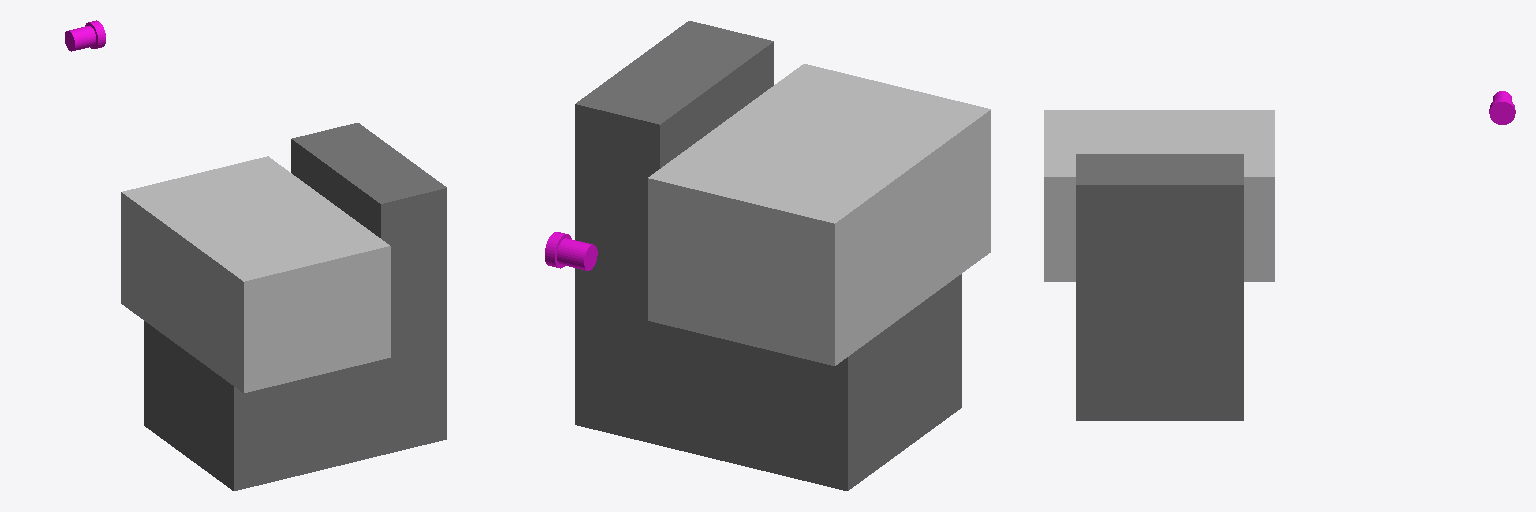
robot.urdf — primitive_chargepal_with_gripper:
<?xml version="1.0" ?>
<!-- =================================================================================== -->
<!-- |    This document was autogenerated by xacro from [local-path]/ros_ws/src/chargepal_description/urdf/bringups/primitive_chargepal_with_fix_plug.urdf.xacro | -->
<!-- |    EDITING THIS FILE BY HAND IS NOT RECOMMENDED                                 | -->
<!-- =================================================================================== -->
<robot name="primitive_chargepal_with_gripper">
  <!-- start kinematic chain -->
  <link name="world"/>
  <joint name="world_joint" type="fixed">
    <parent link="world"/>
    <child link="mobile_base_link"/>
    <origin rpy="0.0 0.0 0.0" xyz="-0.275 0.0 0.2"/>
  </joint>
  <link name="mobile_base_link">
    <inertial>
      <mass value="100.0"/>
      <origin rpy="0 0 0" xyz="0 0 0.4"/>
      <inertia ixx="4.136665012" ixy="0.0" ixz="0.0" iyy="6.666664000000002" iyz="0.0" izz="8.136663412"/>
    </inertial>
    <visual>
      <material name="grey">
        <color rgba="0.5 0.5 0.5 1"/>
      </material>
      <orign rpy="0.0 0.0 0.0" xyz="0.0 0.0 0.0"/>
      <geometry>
        <box size="0.8 0.58 0.4"/>
      </geometry>
    </visual>
    <collision>
      <orign rpy="0.0 0.0 0.0" xyz="0.0 0.0 0.0"/>
      <geometry>
        <box size="0.8 0.58 0.4"/>
      </geometry>
    </collision>
  </link>
  <joint name="tower_joint" type="fixed">
    <parent link="mobile_base_link"/>
    <child link="tower_link"/>
    <origin rpy="0.0 0.0 0.0" xyz="0.275 0.0 0.45"/>
  </joint>
  <link name="tower_link">
    <inertial>
      <mass value="50.0"/>
      <origin rpy="0 0 0" xyz="0 0 0.5"/>
      <inertia ixx="2.443332356" ixy="0.0" ixz="0.0" iyy="1.3020828125000001" iyz="0.0" izz="1.6620826684999999"/>
    </inertial>
    <visual>
      <material name="grey">
        <color rgba="0.5 0.5 0.5 1"/>
      </material>
      <orign rpy="0.0 0.0 0.0" xyz="0.0 0.0 0.0"/>
      <geometry>
        <box size="0.25 0.58 0.5"/>
      </geometry>
    </visual>
    <collision>
      <orign rpy="0.0 0.0 0.0" xyz="0.0 0.0 0.0"/>
      <geometry>
        <box size="0.25 0.58 0.5"/>
      </geometry>
    </collision>
  </link>
  <joint name="battery_joint" type="fixed">
    <parent link="mobile_base_link"/>
    <child link="battery_link"/>
    <origin rpy="0.0 0.0 0.0" xyz="-0.15 0.0 0.4"/>
  </joint>
  <link name="battery_link">
    <inertial>
      <mass value="300.0"/>
      <origin rpy="0 0 0" xyz="0 0 0.4"/>
      <inertia ixx="19.80061707975" ixy="0.0" ixz="0.0" iyy="11.562495375000003" iyz="0.0" izz="23.36311565475"/>
    </inertial>
    <visual>
      <material name="aluminium">
        <color rgba="0.8 0.8 0.8 1"/>
      </material>
      <orign rpy="0.0 0.0 0.0" xyz="0.0 0.0 0.0"/>
      <geometry>
        <box size="0.55 0.795 0.4"/>
      </geometry>
    </visual>
    <collision>
      <orign rpy="0.0 0.0 0.0" xyz="0.0 0.0 0.0"/>
      <geometry>
        <box size="0.55 0.795 0.4"/>
      </geometry>
    </collision>
  </link>
  <!-- colorize platform -->
  <gazebo reference="mobile_base_link">
    <material>Gazebo/DarkGrey</material>
  </gazebo>
  <gazebo reference="tower_link">
    <material>Gazebo/DarkGrey</material>
  </gazebo>
  <gazebo reference="battery_link">
    <material>Gazebo/Grey</material>
  </gazebo>
  <!-- platform arm joint -->
  <joint name="platform_ur10e_joint" type="fixed">
    <parent link="tower_link"/>
    <child link="base_link"/>
    <origin rpy="0.0 0.0 1.570795" xyz="0.0 0.0 0.25"/>
  </joint>
  <!--
    Base UR robot series xacro macro.

    NOTE: this is NOT a URDF. It cannot directly be loaded by consumers
    expecting a flattened '.urdf' file. See the top-level '.xacro' for that
    (but note: that .xacro must still be processed by the xacro command).

    For use in '.launch' files: use one of the 'load_urX.launch' convenience
    launch files.

    This file models the base kinematic chain of a UR robot, which then gets
    parameterised by various configuration files to convert it into a UR3(e),
    UR5(e), UR10(e) or UR16e.

    NOTE: the default kinematic parameters (ie: link lengths, frame locations,
    offets, etc) do not correspond to any particular robot. They are defaults
    only. There WILL be non-zero offsets between the Forward Kinematics results
    in TF (ie: robot_state_publisher) and the values reported by the Teach
    Pendant.

    For accurate (and robot-specific) transforms, the 'kinematics_parameters_file'
    parameter MUST point to a .yaml file containing the appropriate values for
    the targetted robot.

    If using the UniversalRobots/Universal_Robots_ROS_Driver, follow the steps
    described in the readme of that repository to extract the kinematic
    calibration from the controller and generate the required .yaml file.

    Main author of the migration to yaml configs: [author].

    Contributors to previous versions (in no particular order):

     - [author]
     - [author]
     - [author]
     - [author]
     - [author]
     - [author]
     - [author]
     - [author]
     - [author]
     - [author]
     - [author]
     - [author]
     - [author]
     - [author]
     - [author]
     - [author]
     - [author]
  -->
  <!--
    NOTE: the macro defined in this file is NOT part of the public API of this
          package. Users CANNOT rely on this file being available, or stored in
          this location. Nor can they rely on the existence of the macro.
  -->
  <transmission name="shoulder_pan_trans">
    <type>transmission_interface/SimpleTransmission</type>
    <joint name="shoulder_pan_joint">
      <hardwareInterface>hardware_interface/VelocityJointInterface</hardwareInterface>
    </joint>
    <actuator name="shoulder_pan_motor">
      <mechanicalReduction>1</mechanicalReduction>
    </actuator>
  </transmission>
  <transmission name="shoulder_lift_trans">
    <type>transmission_interface/SimpleTransmission</type>
    <joint name="shoulder_lift_joint">
      <hardwareInterface>hardware_interface/VelocityJointInterface</hardwareInterface>
    </joint>
    <actuator name="shoulder_lift_motor">
      <mechanicalReduction>1</mechanicalReduction>
    </actuator>
  </transmission>
  <transmission name="elbow_trans">
    <type>transmission_interface/SimpleTransmission</type>
    <joint name="elbow_joint">
      <hardwareInterface>hardware_interface/VelocityJointInterface</hardwareInterface>
    </joint>
    <actuator name="elbow_motor">
      <mechanicalReduction>1</mechanicalReduction>
    </actuator>
  </transmission>
  <transmission name="wrist_1_trans">
    <type>transmission_interface/SimpleTransmission</type>
    <joint name="wrist_1_joint">
      <hardwareInterface>hardware_interface/VelocityJointInterface</hardwareInterface>
    </joint>
    <actuator name="wrist_1_motor">
      <mechanicalReduction>1</mechanicalReduction>
    </actuator>
  </transmission>
  <transmission name="wrist_2_trans">
    <type>transmission_interface/SimpleTransmission</type>
    <joint name="wrist_2_joint">
      <hardwareInterface>hardware_interface/VelocityJointInterface</hardwareInterface>
    </joint>
    <actuator name="wrist_2_motor">
      <mechanicalReduction>1</mechanicalReduction>
    </actuator>
  </transmission>
  <transmission name="wrist_3_trans">
    <type>transmission_interface/SimpleTransmission</type>
    <joint name="wrist_3_joint">
      <hardwareInterface>hardware_interface/VelocityJointInterface</hardwareInterface>
    </joint>
    <actuator name="wrist_3_motor">
      <mechanicalReduction>1</mechanicalReduction>
    </actuator>
  </transmission>
  <!-- links: main serial chain -->
  <link name="base_link"/>
  <link name="base_link_inertia">
    <visual>
      <origin rpy="0 0 3.141592653589793" xyz="0 0 0"/>
      <geometry>
        <mesh filename="package://ur_description/meshes/ur10e/visual/base.dae"/>
      </geometry>
      <material name="LightGrey">
        <color rgba="0.7 0.7 0.7 1.0"/>
      </material>
    </visual>
    <collision>
      <origin rpy="0 0 3.141592653589793" xyz="0 0 0"/>
      <geometry>
        <mesh filename="package://ur_description/meshes/ur10e/collision/base.stl"/>
      </geometry>
    </collision>
    <inertial>
      <mass value="4.0"/>
      <origin rpy="0 0 0" xyz="0 0 0"/>
      <inertia ixx="0.0061063308908" ixy="0.0" ixz="0.0" iyy="0.0061063308908" iyz="0.0" izz="0.01125"/>
    </inertial>
  </link>
  <link name="shoulder_link">
    <visual>
      <origin rpy="0 0 3.141592653589793" xyz="0 0 0"/>
      <geometry>
        <mesh filename="package://ur_description/meshes/ur10e/visual/shoulder.dae"/>
      </geometry>
      <material name="LightGrey">
        <color rgba="0.7 0.7 0.7 1.0"/>
      </material>
    </visual>
    <collision>
      <origin rpy="0 0 3.141592653589793" xyz="0 0 0"/>
      <geometry>
        <mesh filename="package://ur_description/meshes/ur10e/collision/shoulder.stl"/>
      </geometry>
    </collision>
    <inertial>
      <mass value="7.778"/>
      <origin rpy="0 0 0" xyz="0 0 0"/>
      <inertia ixx="0.03147431257693659" ixy="0.0" ixz="0.0" iyy="0.03147431257693659" iyz="0.0" izz="0.021875624999999996"/>
    </inertial>
  </link>
  <link name="upper_arm_link">
    <visual>
      <origin rpy="1.5707963267948966 0 -1.5707963267948966" xyz="0 0 0.1762"/>
      <geometry>
        <mesh filename="package://ur_description/meshes/ur10e/visual/upperarm.dae"/>
      </geometry>
      <material name="LightGrey">
        <color rgba="0.7 0.7 0.7 1.0"/>
      </material>
    </visual>
    <collision>
      <origin rpy="1.5707963267948966 0 -1.5707963267948966" xyz="0 0 0.1762"/>
      <geometry>
        <mesh filename="package://ur_description/meshes/ur10e/collision/upperarm.stl"/>
      </geometry>
    </collision>
    <inertial>
      <mass value="12.93"/>
      <origin rpy="0 1.5707963267948966 0" xyz="-0.306 0.0 0.175"/>
      <inertia ixx="0.42175380379841093" ixy="0.0" ixz="0.0" iyy="0.42175380379841093" iyz="0.0" izz="0.03636562499999999"/>
    </inertial>
  </link>
  <link name="forearm_link">
    <visual>
      <origin rpy="1.5707963267948966 0 -1.5707963267948966" xyz="0 0 0.0393"/>
      <geometry>
        <mesh filename="package://ur_description/meshes/ur10e/visual/forearm.dae"/>
      </geometry>
      <material name="LightGrey">
        <color rgba="0.7 0.7 0.7 1.0"/>
      </material>
    </visual>
    <collision>
      <origin rpy="1.5707963267948966 0 -1.5707963267948966" xyz="0 0 0.0393"/>
      <geometry>
        <mesh filename="package://ur_description/meshes/ur10e/collision/forearm.stl"/>
      </geometry>
    </collision>
    <inertial>
      <mass value="3.87"/>
      <origin rpy="0 1.5707963267948966 0" xyz="-0.285775 0.0 0.0393"/>
      <inertia ixx="0.11079302548902206" ixy="0.0" ixz="0.0" iyy="0.11079302548902206" iyz="0.0" izz="0.010884375"/>
    </inertial>
  </link>
  <link name="wrist_1_link">
    <visual>
      <!-- TODO: Move this to a parameter -->
      <origin rpy="1.5707963267948966 0 0" xyz="0 0 -0.135"/>
      <geometry>
        <mesh filename="package://ur_description/meshes/ur10e/visual/wrist1.dae"/>
      </geometry>
      <material name="LightGrey">
        <color rgba="0.7 0.7 0.7 1.0"/>
      </material>
    </visual>
    <collision>
      <origin rpy="1.5707963267948966 0 0" xyz="0 0 -0.135"/>
      <geometry>
        <mesh filename="package://ur_description/meshes/ur10e/collision/wrist1.stl"/>
      </geometry>
    </collision>
    <inertial>
      <mass value="1.96"/>
      <origin rpy="0 0 0" xyz="0 0 0"/>
      <inertia ixx="0.005108247956699999" ixy="0.0" ixz="0.0" iyy="0.005108247956699999" iyz="0.0" izz="0.005512499999999999"/>
    </inertial>
  </link>
  <link name="wrist_2_link">
    <visual>
      <origin rpy="0 0 0" xyz="0 0 -0.12"/>
      <geometry>
        <mesh filename="package://ur_description/meshes/ur10e/visual/wrist2.dae"/>
      </geometry>
      <material name="LightGrey">
        <color rgba="0.7 0.7 0.7 1.0"/>
      </material>
    </visual>
    <collision>
      <origin rpy="0 0 0" xyz="0 0 -0.12"/>
      <geometry>
        <mesh filename="package://ur_description/meshes/ur10e/collision/wrist2.stl"/>
      </geometry>
    </collision>
    <inertial>
      <mass value="1.96"/>
      <origin rpy="0 0 0" xyz="0 0 0"/>
      <inertia ixx="0.005108247956699999" ixy="0.0" ixz="0.0" iyy="0.005108247956699999" iyz="0.0" izz="0.005512499999999999"/>
    </inertial>
  </link>
  <link name="wrist_3_link">
    <visual>
      <origin rpy="1.5707963267948966 0 0" xyz="0 0 -0.1168"/>
      <geometry>
        <mesh filename="package://ur_description/meshes/ur10e/visual/wrist3.dae"/>
      </geometry>
      <material name="LightGrey">
        <color rgba="0.7 0.7 0.7 1.0"/>
      </material>
    </visual>
    <collision>
      <origin rpy="1.5707963267948966 0 0" xyz="0 0 -0.1168"/>
      <geometry>
        <mesh filename="package://ur_description/meshes/ur10e/collision/wrist3.stl"/>
      </geometry>
    </collision>
    <inertial>
      <mass value="0.202"/>
      <origin rpy="0 0 0" xyz="0.0 0.0 -0.025"/>
      <inertia ixx="0.00014434577559500002" ixy="0.0" ixz="0.0" iyy="0.00014434577559500002" iyz="0.0" izz="0.00020452500000000002"/>
    </inertial>
  </link>
  <!-- joints: main serial chain -->
  <joint name="base_link-base_link_inertia" type="fixed">
    <parent link="base_link"/>
    <child link="base_link_inertia"/>
    <!-- 'base_link' is REP-103 aligned (so X+ forward), while the internal
           frames of the robot/controller have X+ pointing backwards.
           Use the joint between 'base_link' and 'base_link_inertia' (a dummy
           link/frame) to introduce the necessary rotation over Z (of pi rad).
      -->
    <origin rpy="0 0 3.141592653589793" xyz="0 0 0"/>
  </joint>
  <joint name="shoulder_pan_joint" type="revolute">
    <parent link="base_link_inertia"/>
    <child link="shoulder_link"/>
    <origin rpy="0 0 0" xyz="0 0 0.1807"/>
    <axis xyz="0 0 1"/>
    <limit effort="330.0" lower="-3.141592653589793" upper="3.141592653589793" velocity="3.141592653589793"/>
    <dynamics damping="0" friction="0"/>
  </joint>
  <joint name="shoulder_lift_joint" type="revolute">
    <parent link="shoulder_link"/>
    <child link="upper_arm_link"/>
    <origin rpy="1.570796327 0 0" xyz="0 0 0"/>
    <axis xyz="0 0 1"/>
    <limit effort="330.0" lower="-3.141592653589793" upper="0.0" velocity="3.141592653589793"/>
    <dynamics damping="0" friction="0"/>
  </joint>
  <joint name="elbow_joint" type="revolute">
    <parent link="upper_arm_link"/>
    <child link="forearm_link"/>
    <origin rpy="0 0 0" xyz="-0.6127 0 0"/>
    <axis xyz="0 0 1"/>
    <limit effort="150.0" lower="-3.141592653589793" upper="0.0" velocity="3.141592653589793"/>
    <dynamics damping="0" friction="0"/>
  </joint>
  <joint name="wrist_1_joint" type="revolute">
    <parent link="forearm_link"/>
    <child link="wrist_1_link"/>
    <origin rpy="0 0 0" xyz="-0.57155 0 0.17415"/>
    <axis xyz="0 0 1"/>
    <limit effort="56.0" lower="-3.141592653589793" upper="3.141592653589793" velocity="3.141592653589793"/>
    <dynamics damping="0" friction="0"/>
  </joint>
  <joint name="wrist_2_joint" type="revolute">
    <parent link="wrist_1_link"/>
    <child link="wrist_2_link"/>
    <origin rpy="1.570796327 0 0" xyz="0 -0.11985 -2.458164590756244e-11"/>
    <axis xyz="0 0 1"/>
    <limit effort="56.0" lower="-3.141592653589793" upper="3.141592653589793" velocity="3.141592653589793"/>
    <dynamics damping="0" friction="0"/>
  </joint>
  <joint name="wrist_3_joint" type="revolute">
    <parent link="wrist_2_link"/>
    <child link="wrist_3_link"/>
    <origin rpy="1.570796326589793 3.141592653589793 3.141592653589793" xyz="0 0.11655 -2.390480459346185e-11"/>
    <axis xyz="0 0 1"/>
    <limit effort="56.0" lower="-0.7853981633974483" upper="5.497787143782138" velocity="3.141592653589793"/>
    <dynamics damping="0" friction="0"/>
  </joint>
  <!-- ROS-Industrial 'base' frame: base_link to UR 'Base' Coordinates transform -->
  <link name="base"/>
  <joint name="base_link-base_fixed_joint" type="fixed">
    <!-- Note the rotation over Z of pi radians: as base_link is REP-103
           aligned (ie: has X+ forward, Y+ left and Z+ up), this is needed
           to correctly align 'base' with the 'Base' coordinate system of
           the UR controller.
      -->
    <origin rpy="0 0 3.141592653589793" xyz="0 0 0"/>
    <parent link="base_link"/>
    <child link="base"/>
  </joint>
  <!-- ROS-Industrial 'flange' frame: attachment point for EEF models -->
  <link name="flange"/>
  <joint name="wrist_3-flange" type="fixed">
    <parent link="wrist_3_link"/>
    <child link="flange"/>
    <origin rpy="0 -1.5707963267948966 -1.5707963267948966" xyz="0 0 0"/>
  </joint>
  <!-- ROS-Industrial 'tool0' frame: all-zeros tool frame -->
  <link name="tool0"/>
  <joint name="flange-tool0" type="fixed">
    <!-- default toolframe: X+ left, Y+ up, Z+ front -->
    <origin rpy="1.5707963267948966 0 1.5707963267948966" xyz="0 0 0"/>
    <parent link="flange"/>
    <child link="tool0"/>
  </joint>
  <!-- Configure self collision properties per link -->
  <gazebo reference="shoulder_link">
    <selfCollide>true</selfCollide>
  </gazebo>
  <gazebo reference="upper_arm_link">
    <selfCollide>true</selfCollide>
  </gazebo>
  <gazebo reference="forearm_link">
    <selfCollide>true</selfCollide>
  </gazebo>
  <gazebo reference="wrist_1_link">
    <selfCollide>true</selfCollide>
  </gazebo>
  <gazebo reference="wrist_3_link">
    <selfCollide>true</selfCollide>
  </gazebo>
  <gazebo reference="wrist_2_link">
    <selfCollide>true</selfCollide>
  </gazebo>
  <gazebo reference="ee_link">
    <selfCollide>true</selfCollide>
  </gazebo>
  <!-- mount the fts to the robot -->
  <joint name="fts_fix" type="fixed">
    <!--In most cases origin would be flange adapter plate: <origin xyz="0 0 0.009" rpy="0 0 0"/> /-->
    <origin rpy="0 0 0" xyz="0 0 0"/>
    <parent link="tool0"/>
    <child link="fts_robotside"/>
  </joint>
  <link name="fts_robotside">
    <inertial>
      <origin rpy="0 0 0" xyz="0 0 0.01875"/>
      <mass value="0.3"/>
      <!-- <inertia ixx="0.000140625" ixy="0" ixz="0" iyy="0.000140625" iyz="0" izz="0.000246094" /> /-->
      <inertia ixx="0.000262" ixy="0" ixz="1" iyy="0.000265" iyz="1" izz="0.000219"/>
    </inertial>
    <visual>
      <origin rpy="0 0 1.5707963267948966" xyz="0 0 0"/>
      <geometry>
        <mesh filename="package://chargepal_description/meshes/robotiq_ft_300/visual/robotiq_ft_300.stl"/>
      </geometry>
      <material name="black">
        <color rgba="0.1 0.1 0.1 1"/>
      </material>
    </visual>
    <collision>
      <origin rpy="0 0 1.5707963267948966" xyz="0 0 0"/>
      <geometry>
        <mesh filename="package://chargepal_description/meshes/robotiq_ft_300/collision/robotiq_ft_300.stl"/>
      </geometry>
    </collision>
  </link>
  <gazebo reference="fts_robotside">
    <material>Gazebo/FlatBlack</material>
  </gazebo>
  <!-- virtual measurement frame -->
  <joint name="measurement_joint" type="fixed">
    <origin rpy="0 0 0" xyz="0 0 0.01625"/>
    <parent link="fts_robotside"/>
    <child link="robotiq_force_torque_frame_id"/>
  </joint>
  <link name="robotiq_force_torque_frame_id"/>
  <!-- toolside frame -->
  <joint name="toolside_joint" type="fixed">
    <origin rpy="0 0 0" xyz="0 0 0.0375"/>
    <parent link="fts_robotside"/>
    <child link="fts_toolside"/>
  </joint>
  <link name="fts_toolside"/>
  <!-- /////////////////// RViz materials /////////////////// -->
  <!--                                                        -->
  <!-- ///////////////////////////// inertials with origin //////////////////////////////// -->
  <!--                                                                                      -->
  <!-- see https://secure.wikimedia.org/wikipedia/en/wiki/List_of_moment_of_inertia_tensors -->
  <!--                                                                                      -->
  <!--                                               -->
  <!-- ////////// ChargePal common macros ////////// -->
  <!--                                               -->
  <joint name="plug_border_joint" type="fixed">
    <parent link="fts_toolside"/>
    <child link="plug_border"/>
    <origin rpy="0.0 0.0 0.0" xyz="0.0 0.0 0.015"/>
  </joint>
  <link name="plug_border">
    <inertial>
      <mass value="0.1"/>
      <origin rpy="0 0 0" xyz="0 0 0"/>
      <inertia ixx="5.812497675e-05" ixy="0.0" ixz="0.0" iyy="5.812497675e-05" iyz="0.0" izz="0.00010125"/>
    </inertial>
    <visual>
      <material name="pink">
        <color rgba="0.937 0.109 0.882 1"/>
      </material>
      <geometry>
        <cylinder length="0.03" radius="0.045"/>
      </geometry>
    </visual>
    <collision>
      <geometry>
        <cylinder length="0.03" radius="0.045"/>
      </geometry>
    </collision>
  </link>
  <joint name="plug_joint" type="fixed">
    <parent link="plug_border"/>
    <child link="plug"/>
    <origin rpy="0.0 0.0 0.0" xyz="0.0 0.0 0.055"/>
  </joint>
  <link name="plug">
    <inertial>
      <mass value="0.25"/>
      <origin rpy="0 0 0" xyz="0 0 0"/>
      <inertia ixx="0.00020772387524375" ixy="0.0" ixz="0.0" iyy="0.00020772387524375" iyz="0.0" izz="0.00014878125000000001"/>
    </inertial>
    <visual>
      <material name="pink">
        <color rgba="0.937 0.109 0.882 1"/>
      </material>
      <geometry>
        <cylinder length="0.08" radius="0.0345"/>
      </geometry>
    </visual>
    <collision>
      <geometry>
        <cylinder length="0.08" radius="0.0345"/>
      </geometry>
    </collision>
  </link>
  <joint name="plug_ref_frame_joint" type="fixed">
    <parent link="plug_border"/>
    <child link="plug_reference_frame"/>
    <axis xyz="0 0 0"/>
    <origin rpy="0 0 0" xyz="0 0 0.015"/>
  </joint>
  <link name="plug_reference_frame"/>
  <gazebo reference="handle">
    <material>Gazebo/ZincYellow</material>
  </gazebo>
  <gazebo reference="plug">
    <material>Gazebo/ZincYellow</material>
  </gazebo>
  <gazebo>
    <plugin filename="libgazebo_ros_control.so" name="gazebo_ros_control">
      <controlPeriod>0.001</controlPeriod>
      <legacyModeNS>false</legacyModeNS>
    </plugin>
  </gazebo>
</robot>

--- Facts derived from the render (not from the file) ---
Views: 3 orthographic renders of the robot side by side, from view 1: azimuth 30°, elevation 25°; view 2: azimuth 150°, elevation 25°; view 3: azimuth 270°, elevation 25°.
Model primitive_chargepal_with_gripper with 21 links and 20 joints (6 revolute, 14 fixed), rooted at world, posed all joints at 0.
Links seen in each view (by area): view 1: battery_link, mobile_base_link, tower_link, plug; view 2: battery_link, mobile_base_link, tower_link, plug; view 3: tower_link, battery_link, mobile_base_link, plug_border.
Boxes of the visible links, x1,y1,x2,y2 form: battery_link: (121,156,390,392); mobile_base_link: (144,321,446,490); tower_link: (291,123,446,340); plug: (65,26,95,51); battery_link: (648,64,990,365); mobile_base_link: (575,274,961,490); tower_link: (575,21,773,299); plug: (557,238,597,270); tower_link: (1076,154,1243,315); battery_link: (1044,110,1274,281); mobile_base_link: (1076,316,1243,420); plug_border: (1489,98,1515,124).
Size in the robot's own frame: 0.825 by 1.63 by 1.01 metres.
0 mesh visuals loaded from 8 distinct referenced files (none loaded); not drawn: 8 (reference not matched to a file when rendering).